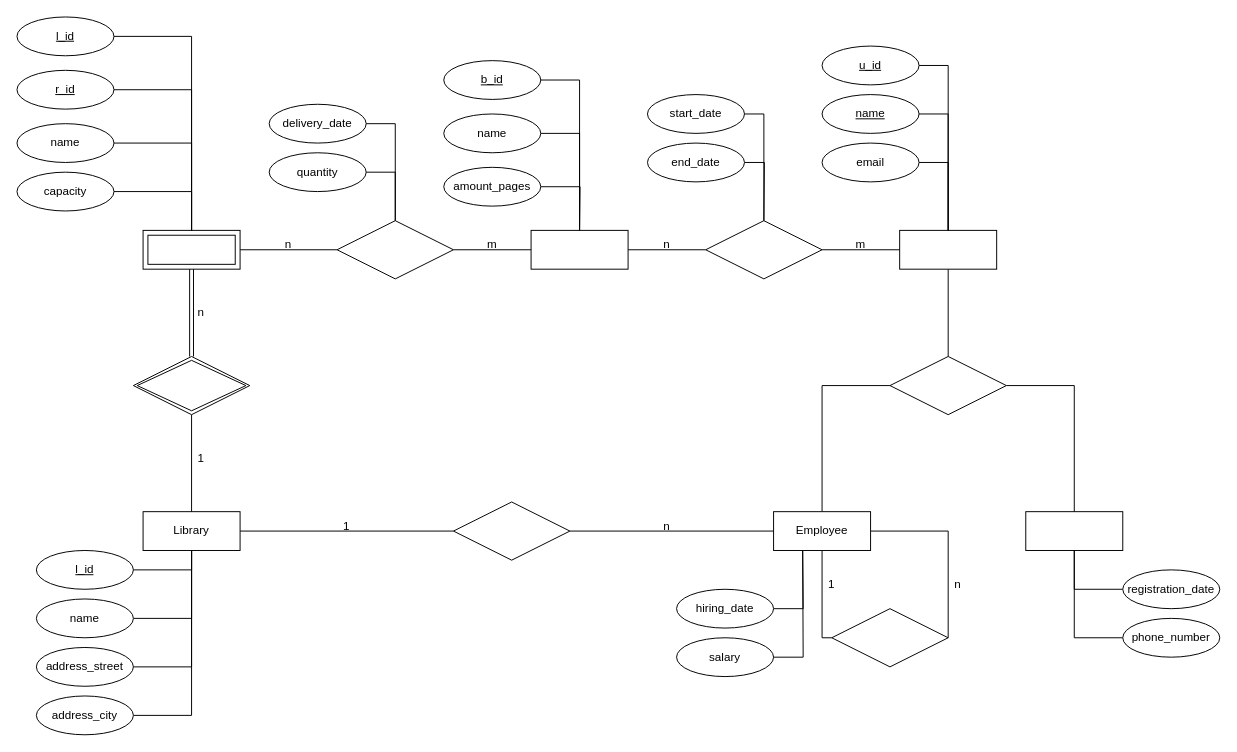
The diagram is 1237 pixels wide and 752 high, and some of its shapes have lost their labels. The shapes that lost their labels are listed below. From the top down, each one's box as (x1, y1, x2, y2) in pixels, then its label:
(142, 229, 240, 269): Room
(336, 220, 453, 279): contains
(530, 229, 628, 269): Book
(705, 220, 822, 279): borrows
(899, 229, 997, 269): User
(132, 356, 250, 415): has
(889, 356, 1006, 415): IS-A
(453, 501, 570, 560): works in
(1025, 511, 1123, 550): Customer
(831, 608, 948, 667): supervises
